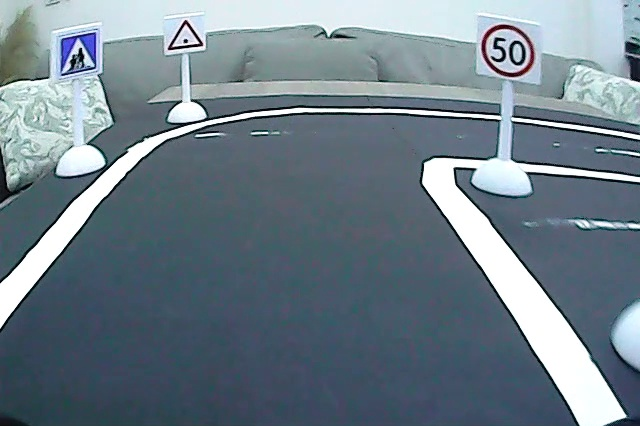green light: (165, 16, 205, 52)
school crossing: (55, 31, 101, 78)
speed limit 50: (478, 21, 538, 81)
